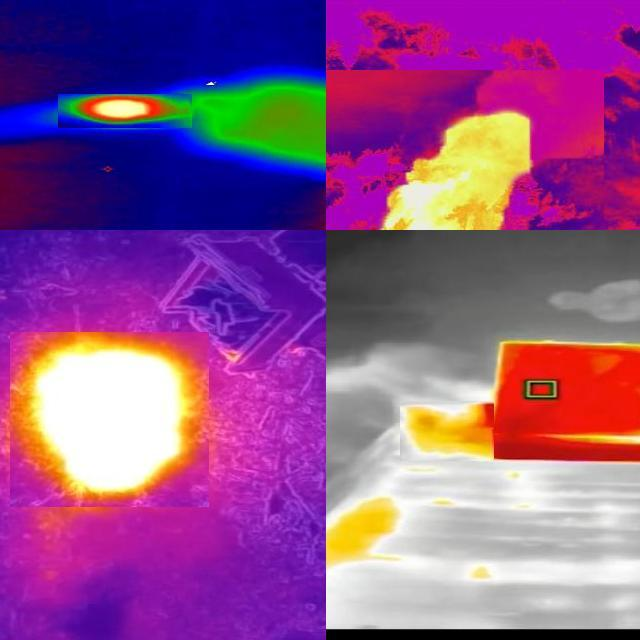fire: (11, 332, 210, 507), (380, 110, 534, 231), (327, 491, 408, 576), (401, 401, 495, 461), (59, 94, 193, 128)
